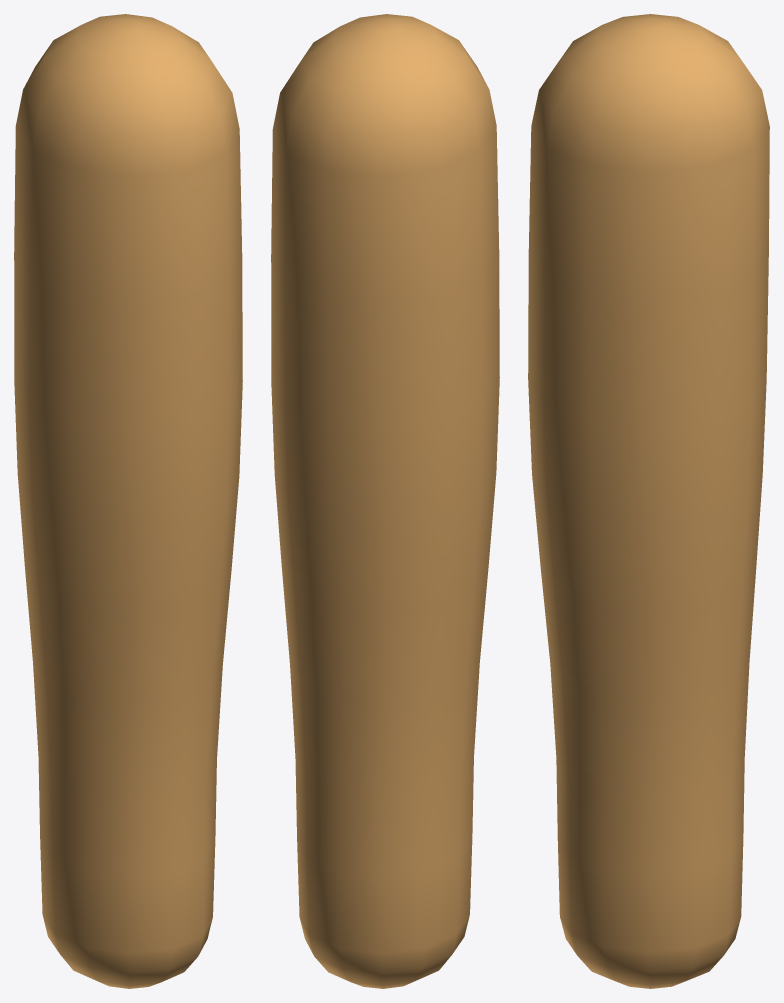
The model's file is npc_forearm_bare.glb.
3 views of the same model, side by side, from view 1: azimuth 30°, elevation 25°; view 2: azimuth 150°, elevation 25°; view 3: azimuth 270°, elevation 25° (orthographic).
Parts seen in each view (by area): view 1: npc_forearm_bare; view 2: npc_forearm_bare; view 3: npc_forearm_bare.
Part boxes in pixels (bbox=[...]): npc_forearm_bare: bbox=[14, 14, 242, 988]; npc_forearm_bare: bbox=[271, 14, 499, 988]; npc_forearm_bare: bbox=[528, 14, 769, 988].
Size of the model in its own units: 0.0648 by 0.302 by 0.0693.
